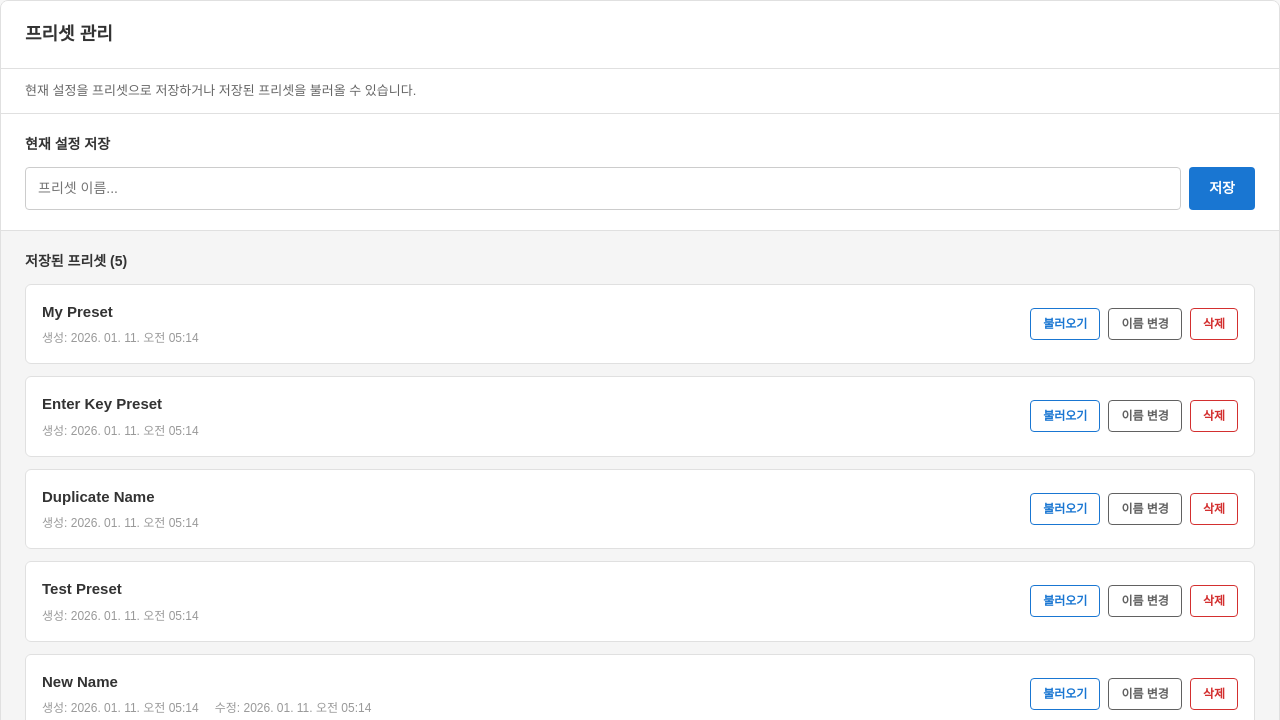
it: PresetManager › should cancel rename on Escape key
This screenshot has width=1280, height=720.
Note: Save a preset first
Step 1. Type "Original Name" into the field with placeholder "프리셋 이름..." → (603, 188), box [25,166,1181,210]
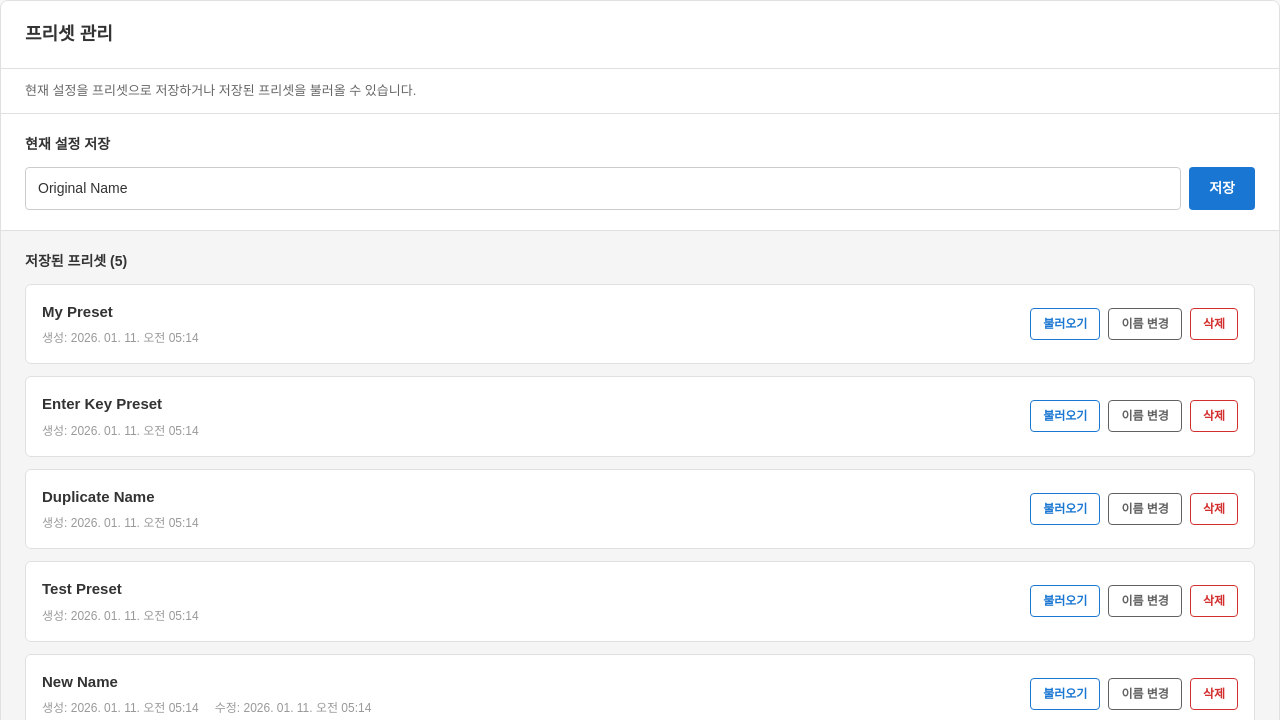
Step 2. Click the button with aria-label "프리셋 저장" → (1222, 188), box [1189,166,1255,210]
(page scrolled)
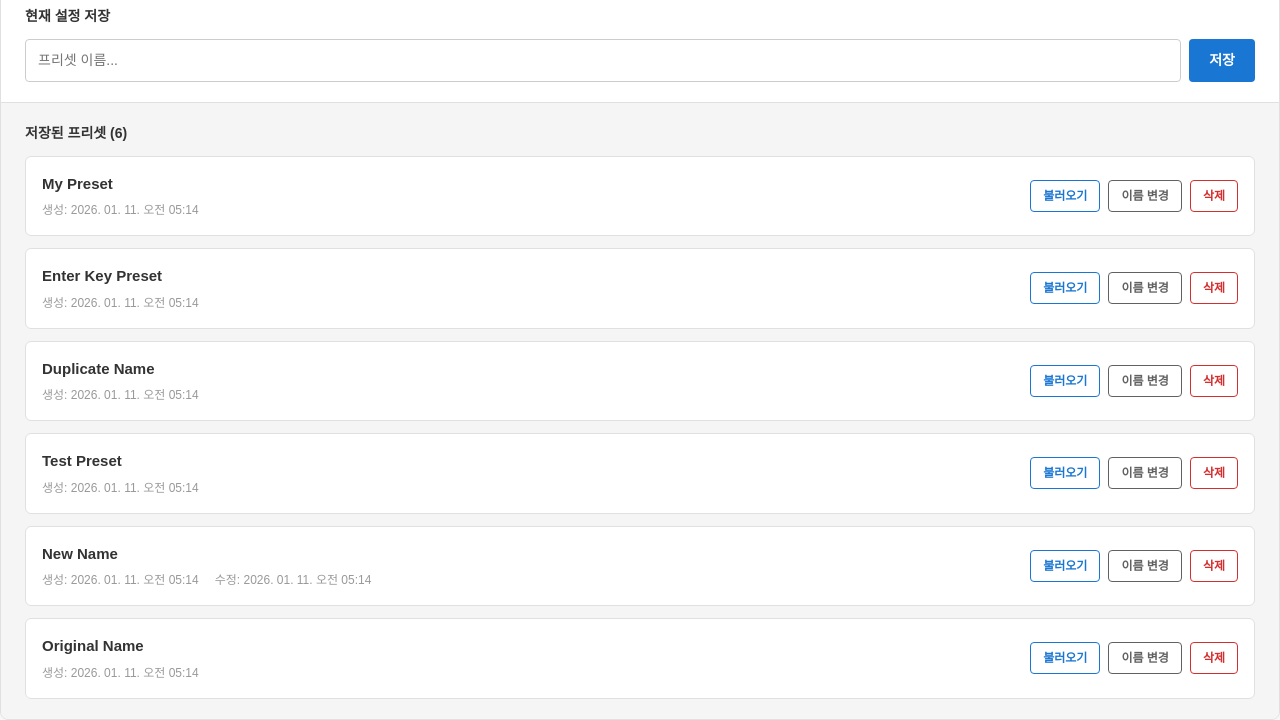
Note: Start editing
Step 3. Click the button with aria-label "Original Name 프리셋 이름 변경" → (1145, 658), box [1108,642,1182,674]
(page scrolled)
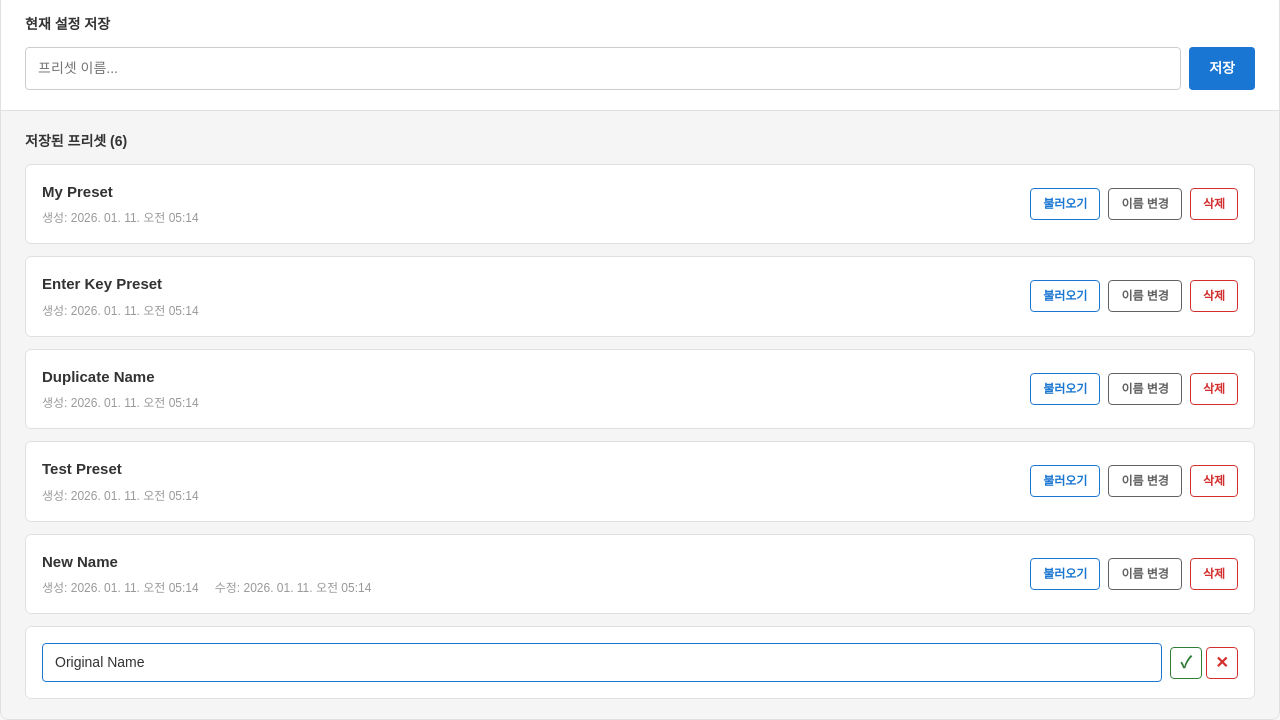
Note: Press Escape
Step 4. Press Escape in the field named "프리셋 이름 변경: Original Name", box [42,643,1162,682]
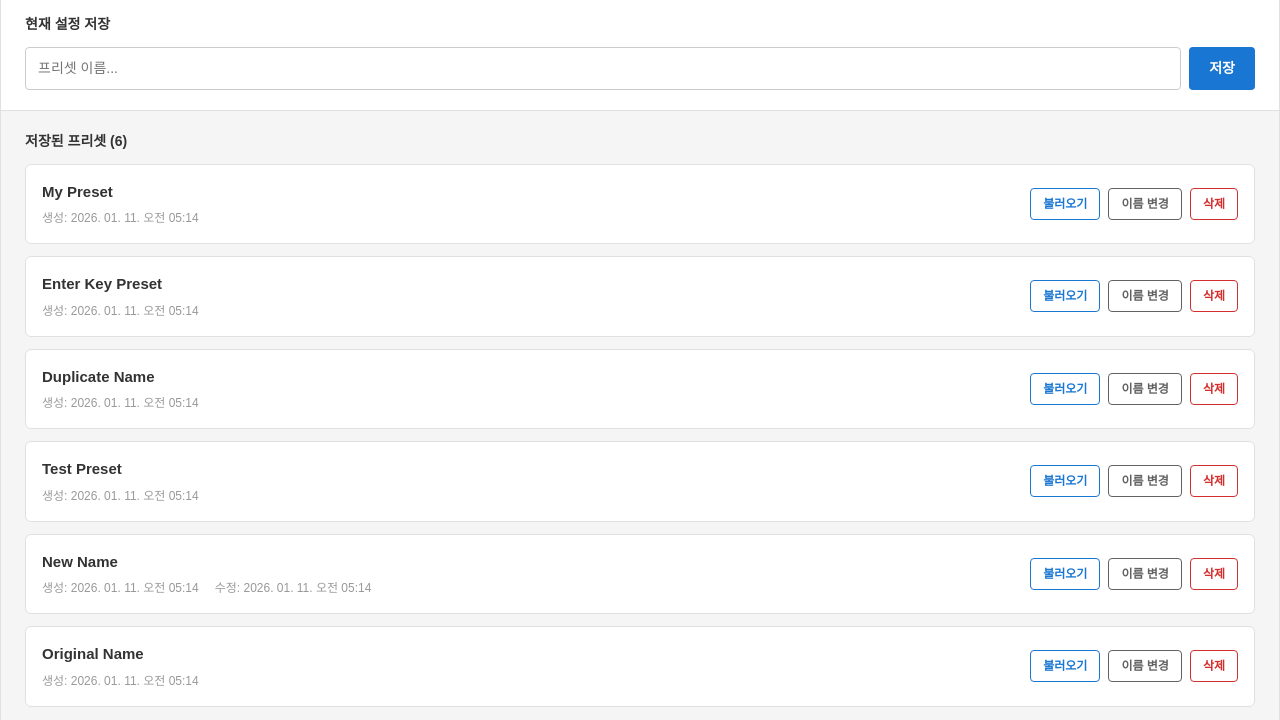
Expected: the heading "Original Name" is shown, [42,645,144,662]
